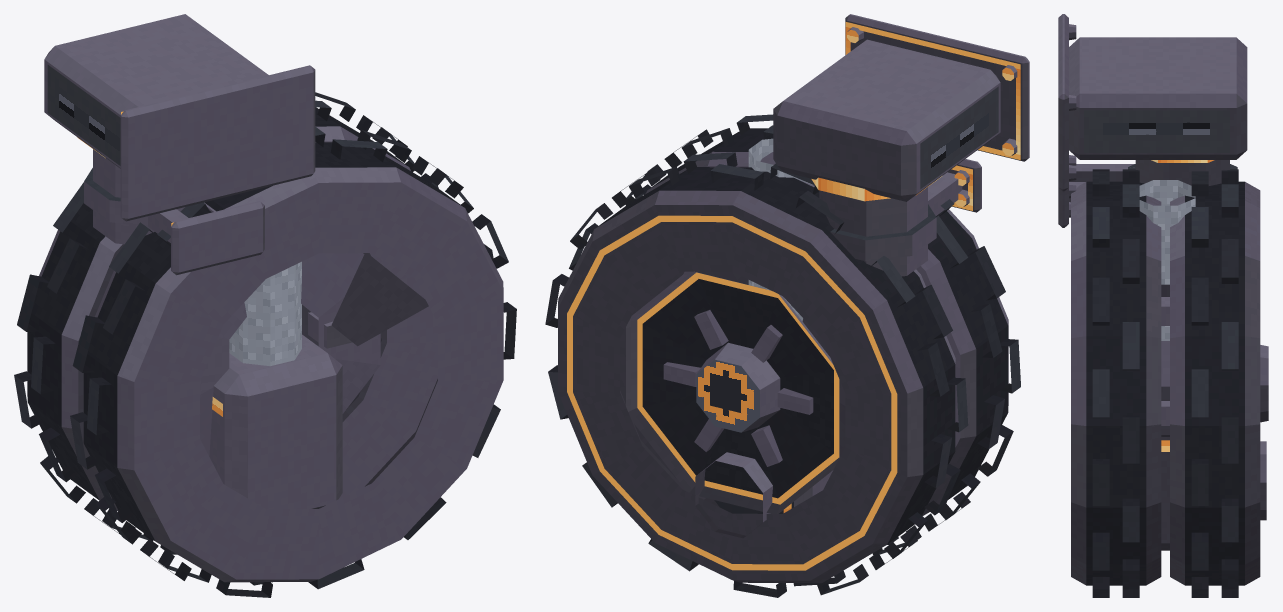
The model's file is marlit_wheavy.glb.
3 views of the same model, side by side, from view 1: azimuth 30°, elevation 25°; view 2: azimuth 150°, elevation 25°; view 3: azimuth 270°, elevation 25° (orthographic). The views are drawn at different scales.
Parts seen in each view (by area): view 1: marlit_wheavy_tyre, marlit_wheavy_body, marlit_wheavy_leg; view 2: marlit_wheavy_tyre, marlit_wheavy_body, marlit_wheavy_leg; view 3: marlit_wheavy_tyre, marlit_wheavy_body, marlit_wheavy_leg, marlit_wheavy_collar.
Boxes of the visible parts, x1,y1,x2,y2 form: marlit_wheavy_tyre: [14, 92, 516, 597]; marlit_wheavy_body: [44, 14, 315, 275]; marlit_wheavy_leg: [209, 261, 352, 509]; marlit_wheavy_tyre: [545, 114, 1020, 597]; marlit_wheavy_body: [773, 14, 1029, 276]; marlit_wheavy_leg: [695, 138, 833, 538]; marlit_wheavy_tyre: [1071, 169, 1268, 597]; marlit_wheavy_body: [1058, 14, 1247, 227]; marlit_wheavy_leg: [1139, 180, 1266, 550]; marlit_wheavy_collar: [1161, 284, 1169, 325].
Size of the model in its own units: 2 by 2.46 by 0.98.
1 material, 1 textured.
